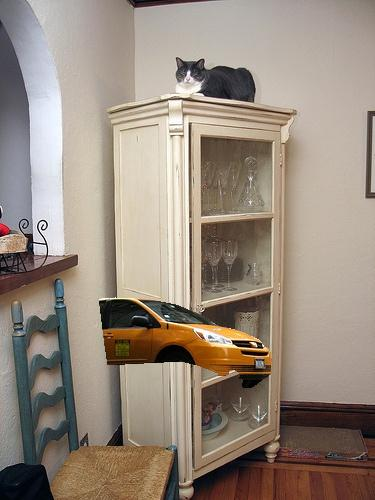tampered: (100, 298, 271, 388)
